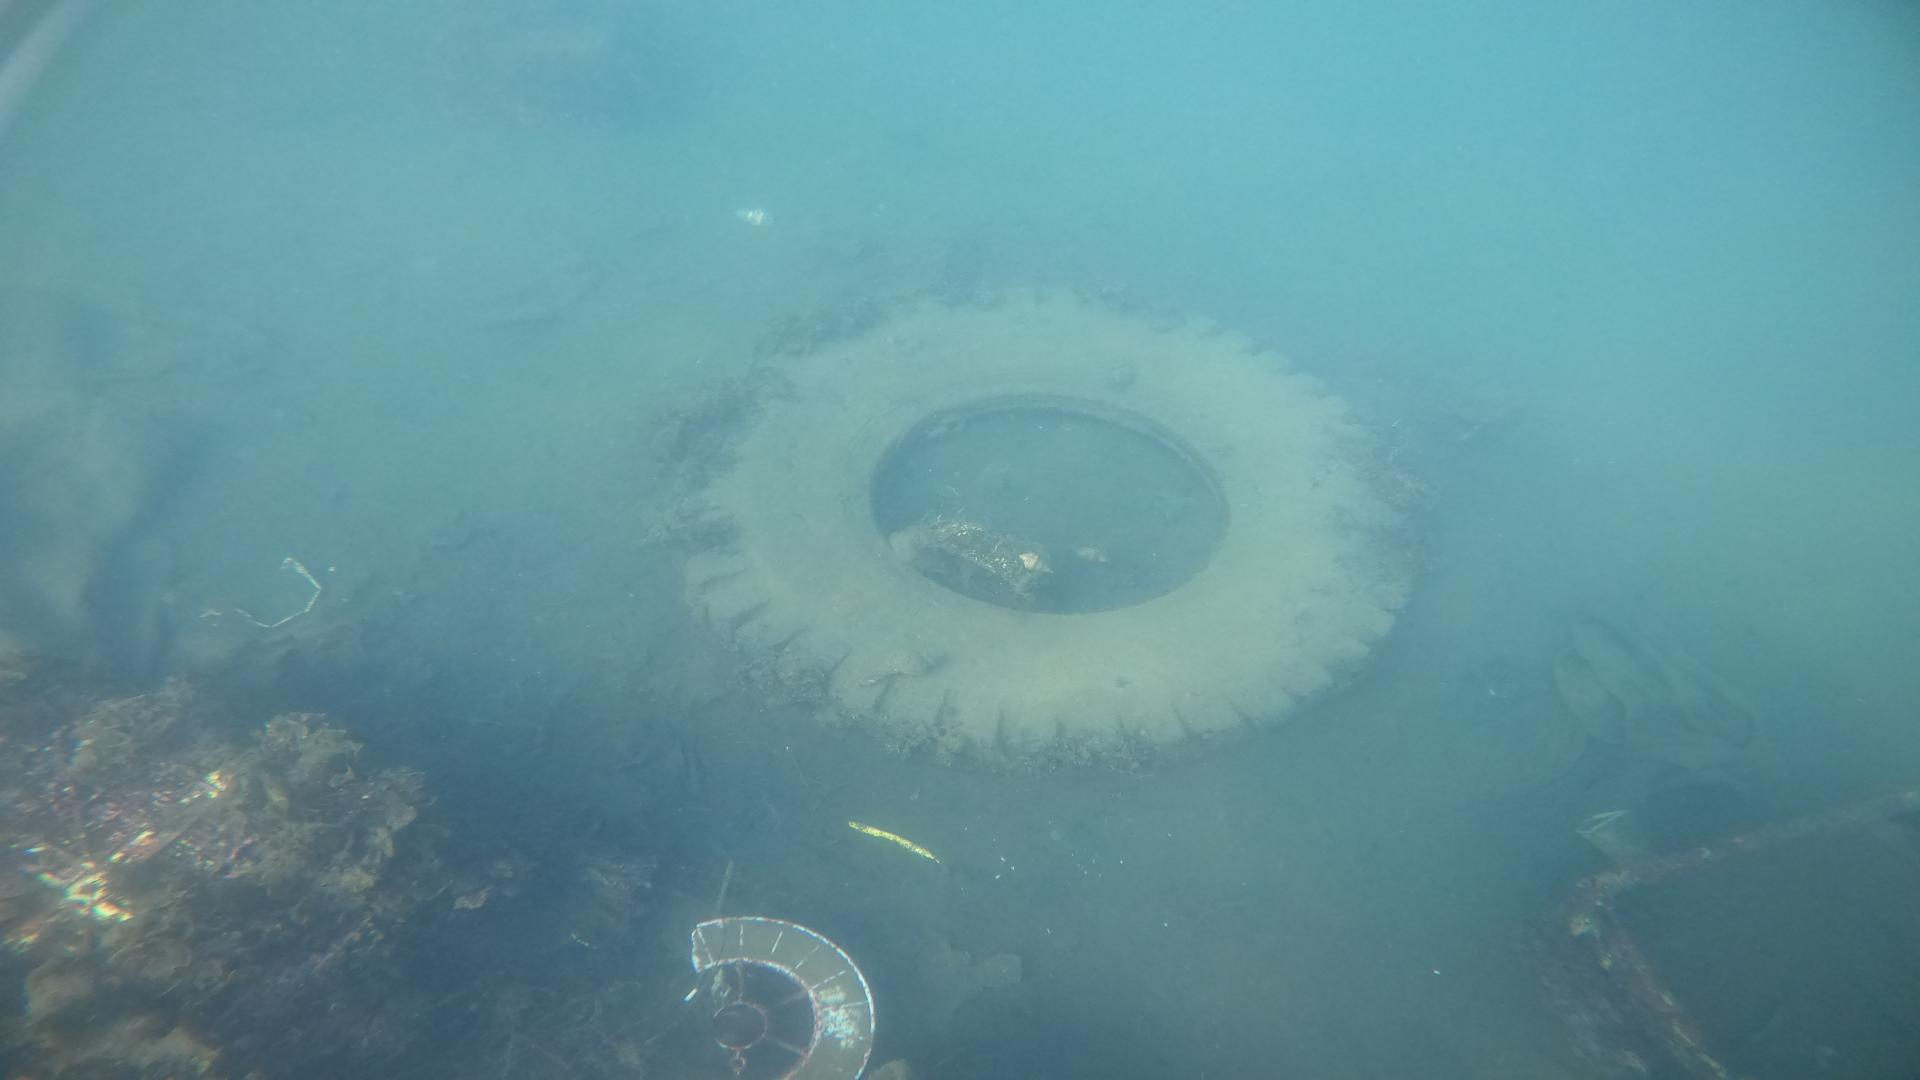tire: (670, 287, 1436, 785)
